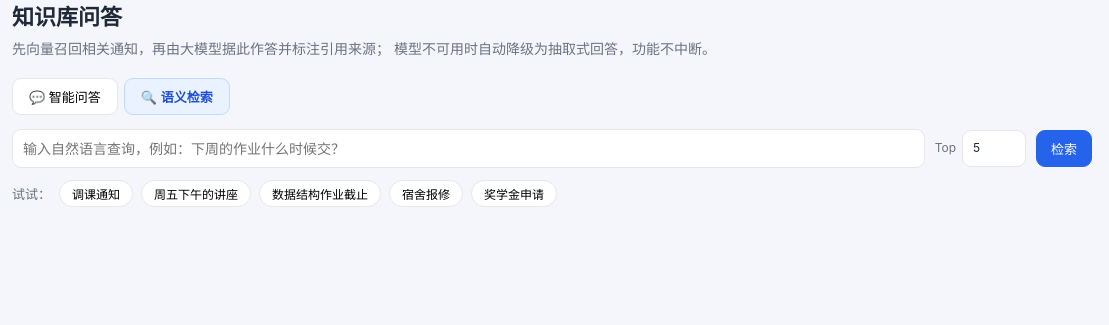
Test: Search 组件 › filtered=false 时提示「没有匹配的历史通知」（库里确实没有）
In the field: (468, 149) [12, 129, 925, 168], type "工作坊报名什么时候截止"
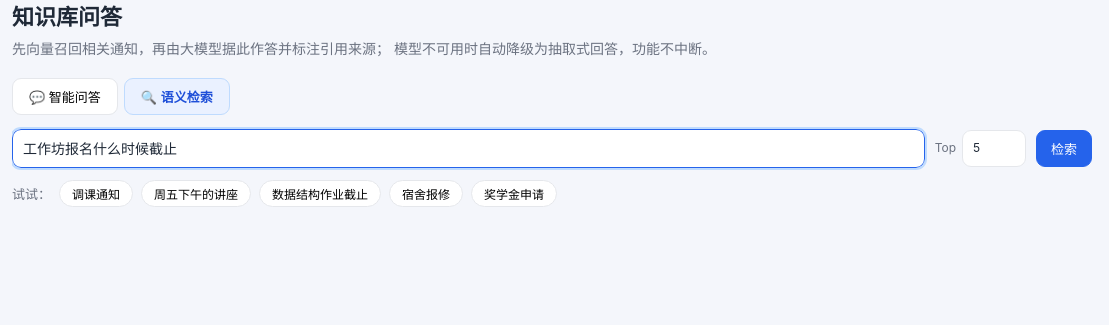
Click the button "检索": (1064, 149) [1036, 130, 1092, 167]
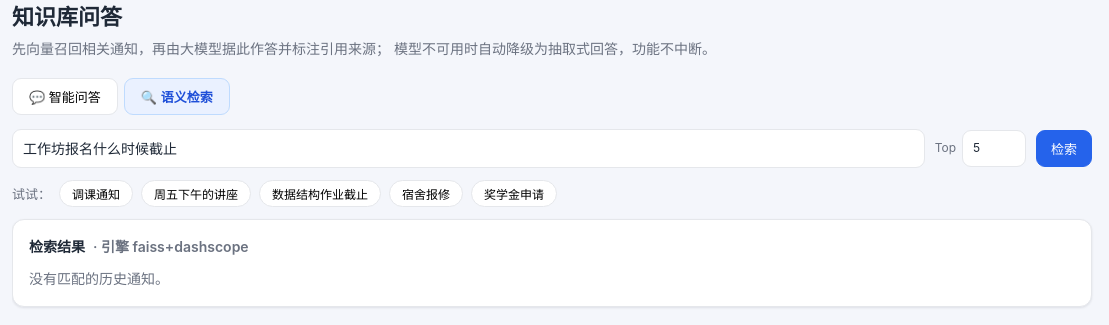
Check: the text "没有匹配的历史通知。" is shown, box [29, 270, 169, 287]
